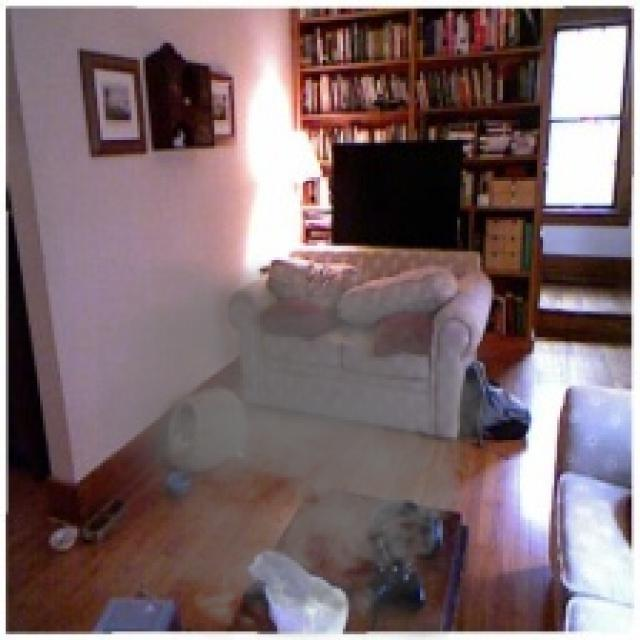smoke: (97, 260, 520, 637)
